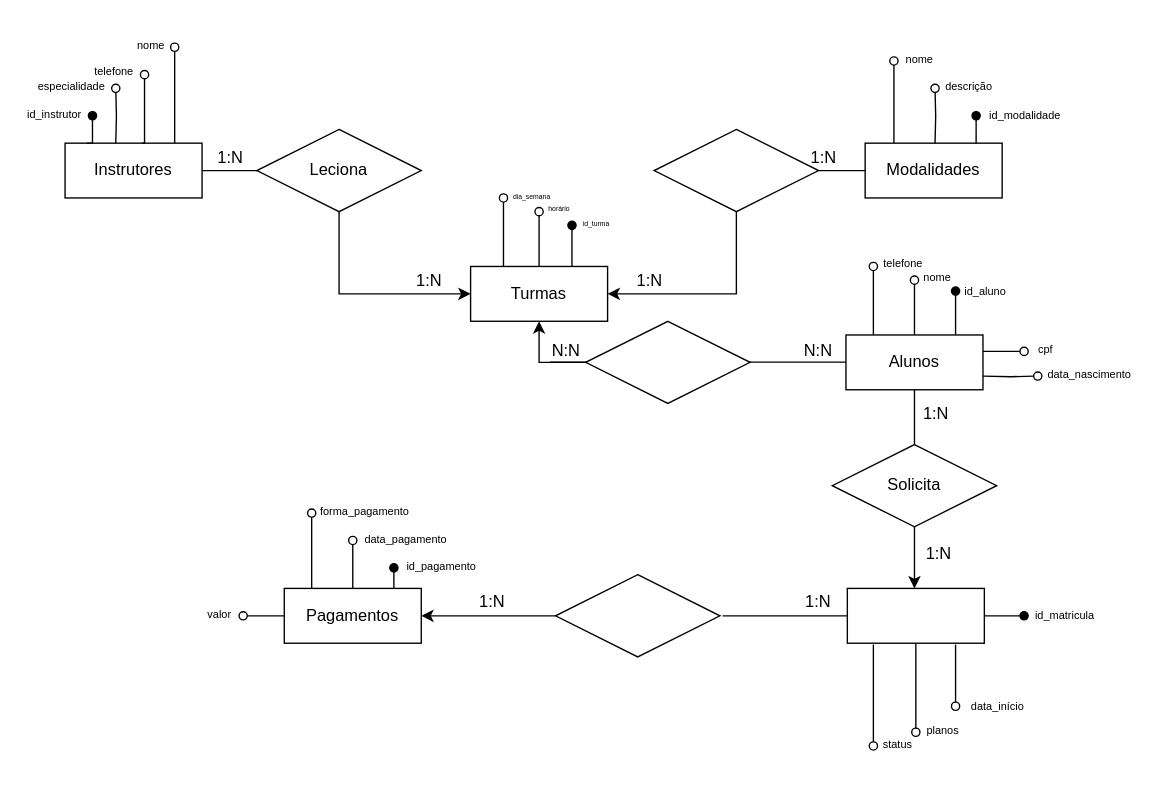
This 1155x786 diagram has some shape labels left out. Each missing label, with the box of its shape:
Classifica: (653, 128, 819, 212)
Gera: (554, 573, 720, 657)
Matrículas: (846, 587, 984, 643)
Participa: (584, 320, 750, 403)
